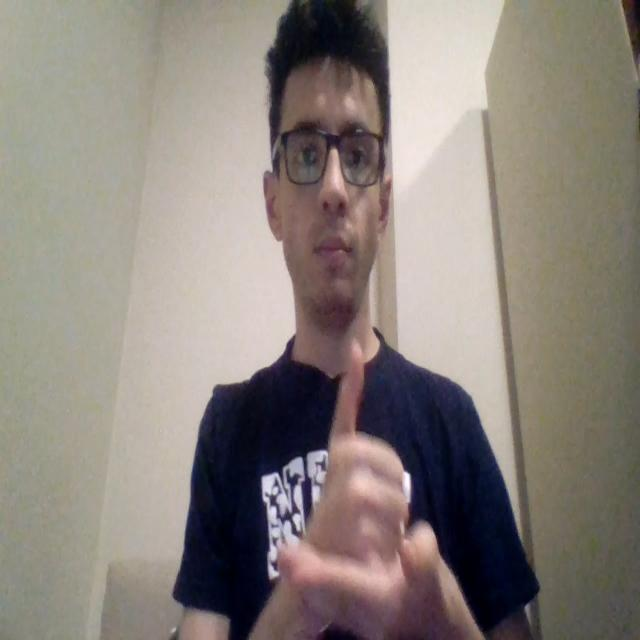help: (282, 339, 443, 640)
